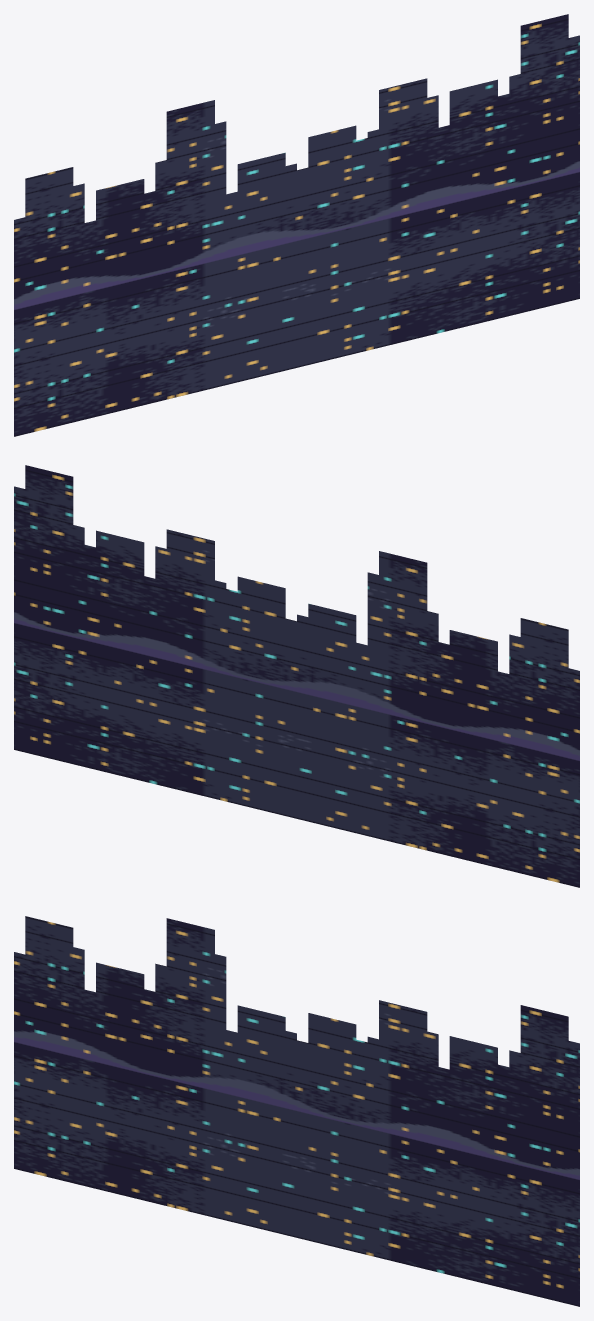
Rendered from cysky.stepped__low.glb.
The picture shows the model from 3 angles, top to bottom: view 1: azimuth 30°, elevation 25°; view 2: azimuth 150°, elevation 25°; view 3: azimuth 330°, elevation 25°; orthographic projection.
Visible parts, largest first — view 1: kit_card_skyline; view 2: kit_card_skyline; view 3: kit_card_skyline.
Boxes of the visible parts, x1=… form: kit_card_skyline: x1=14, y1=14, x2=579, y2=436; kit_card_skyline: x1=14, y1=465, x2=579, y2=887; kit_card_skyline: x1=14, y1=916, x2=579, y2=1306.
Bounding box in the file's own units: 56 × 27.23 × 0.
1 material, 1 textured.
